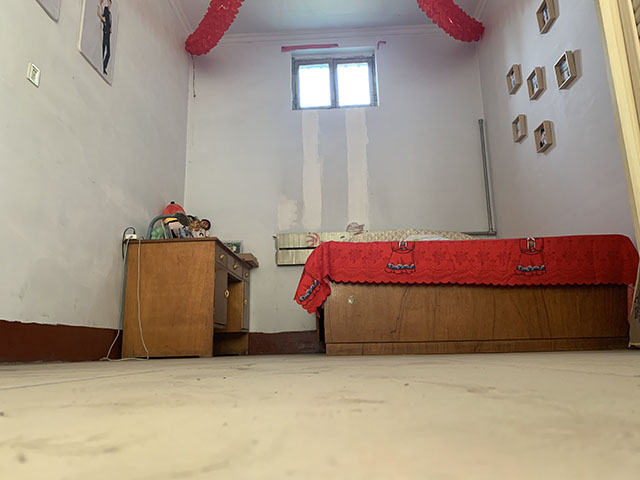bed: (292, 233, 640, 357)
table: (121, 236, 253, 359)
wire: (99, 225, 151, 361)
